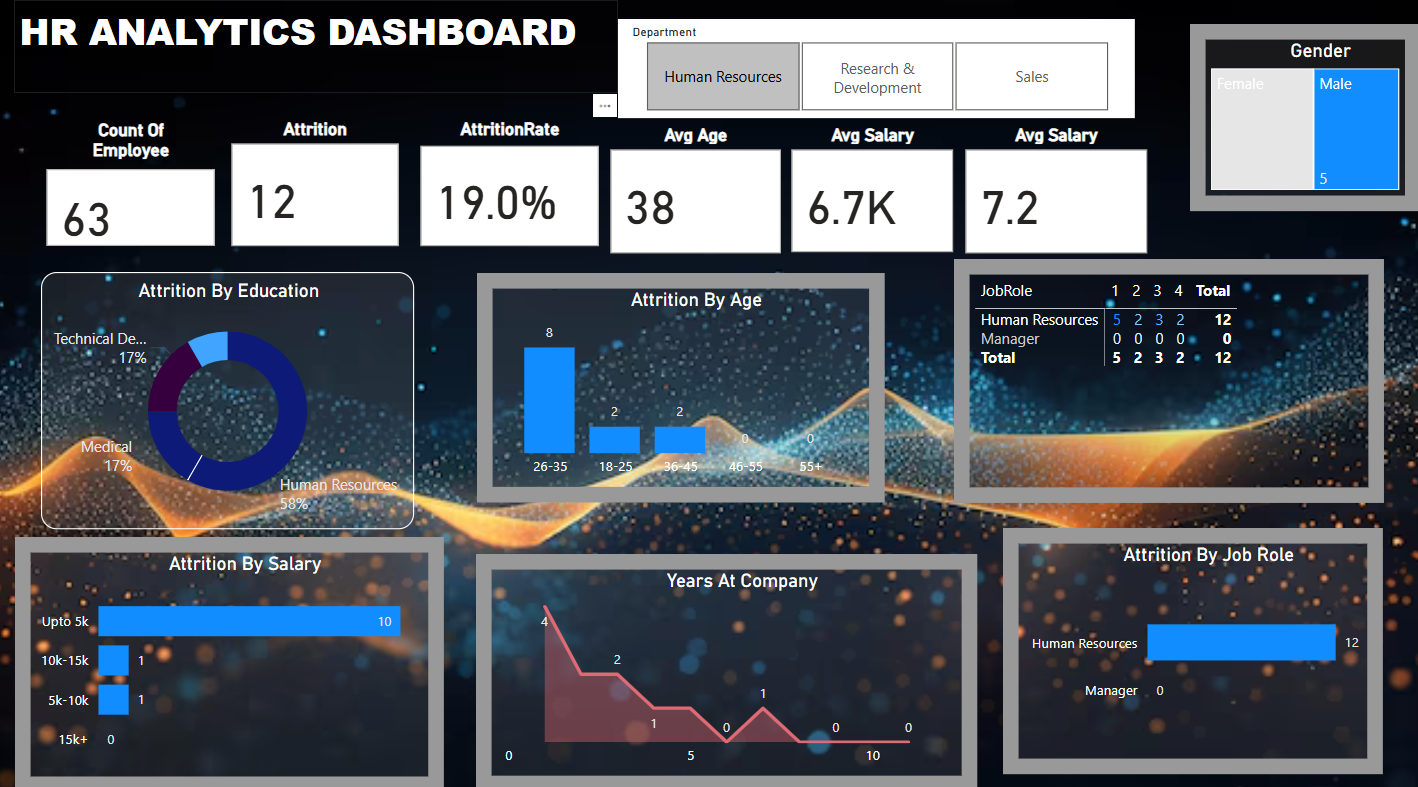

Layout of this report page (visuals, bound fields, positions):
{"tool":"powerbi","page":{"name":"Page 1","canvas":[1280,720],"ordinal":0},"visuals":[{"type":"cardVisual","title":"Count Of Employee","fields":{"Data":["CountNonNull(HR_Analytics.EmpID)"]},"box":[42.6,107.3,161.6,119],"z":0},{"type":"cardVisual","title":"Attrition","fields":{"Data":["Sum(HR_Analytics.AttritionCount)"]},"box":[208.7,105.8,160.2,120.5],"z":1000},{"type":"cardVisual","title":"AttritionRate","fields":{"Data":["HR_Analytics.AttritionRate"]},"box":[377.6,105.8,170.4,120.5],"z":2000},{"type":"cardVisual","title":"Avg Age","fields":{"Data":["Avg(HR_Analytics.Age)"]},"box":[548.1,111.7,163.1,122],"z":3000},{"type":"cardVisual","title":"Avg Salary","fields":{"Data":["Avg(HR_Analytics.MonthlyIncome)"]},"box":[711.2,111.7,155.8,120.5],"z":4000},{"type":"cardVisual","title":"Avg Salary","fields":{"Data":["Avg(HR_Analytics.YearsAtCompany)"]},"box":[866.9,111.7,173.4,122],"z":5000},{"type":"donutChart","title":"Attrition By Education","fields":{"Category":["HR_Analytics.EducationField"],"Y":["Sum(HR_Analytics.AttritionCount)"]},"box":[42.6,243.9,335,230.7],"z":6000},{"type":"columnChart","title":"Attrition By Age","fields":{"Category":["HR_Analytics.AgeGroup"],"Y":["Sum(HR_Analytics.AttritionCount)"]},"box":[433.5,245.4,365.9,205.7],"z":7000},{"type":"pivotTable","fields":{"Rows":["HR_Analytics.JobRole"],"Columns":["HR_Analytics.JobSatisfaction"],"Values":["Sum(HR_Analytics.AttritionCount)"]},"box":[861.4,232.9,385.7,218.6],"z":8000},{"type":"barChart","title":"Attrition By Salary","fields":{"Category":["HR_Analytics.SalarySlab"],"Y":["Sum(HR_Analytics.AttritionCount)"]},"box":[19.1,482,385,229.2],"z":8001},{"type":"barChart","title":"Attrition By Job Role","fields":{"Category":["HR_Analytics.JobRole"],"Y":["Sum(HR_Analytics.AttritionCount)"]},"box":[905.7,474.3,341.4,221.4],"z":8002},{"type":"areaChart","title":"Years At Company","fields":{"Category":["HR_Analytics.YearsAtCompany"],"Y":["Sum(HR_Analytics.AttritionCount)"]},"box":[432.9,497.1,450,212.9],"z":8003},{"type":"treemap","title":"Gender ","fields":{"Group":["HR_Analytics.Gender"],"Values":["Sum(HR_Analytics.AttritionCount)"]},"box":[1073.4,21.8,206.6,168],"z":8004},{"type":"slicer","fields":{"Values":["HR_Analytics.Department"]},"box":[560,17,464,89],"z":8005},{"type":"textbox","box":[17.6,0,542.2,83.8],"z":8006}]}

Visuals, with their boxes in screenshot pixels (x1, y1, x2, y2), scaled from the page's 1280x720 canvas onto the 1418x787 screenshot:
"Count Of Employee" cardVisual: (left=47, top=117, right=226, bottom=247)
"Attrition" cardVisual: (left=231, top=116, right=409, bottom=247)
"AttritionRate" cardVisual: (left=418, top=116, right=607, bottom=247)
"Avg Age" cardVisual: (left=607, top=122, right=788, bottom=255)
"Avg Salary" cardVisual: (left=788, top=122, right=960, bottom=254)
"Avg Salary" cardVisual: (left=960, top=122, right=1152, bottom=255)
"Attrition By Education" donutChart: (left=47, top=267, right=418, bottom=519)
"Attrition By Age" columnChart: (left=480, top=268, right=886, bottom=493)
pivotTable - HR_Analytics.JobRole x HR_Analytics.JobSatisfaction: (left=954, top=255, right=1382, bottom=494)
"Attrition By Salary" barChart: (left=21, top=527, right=448, bottom=777)
"Attrition By Job Role" barChart: (left=1003, top=518, right=1382, bottom=760)
"Years At Company" areaChart: (left=480, top=543, right=978, bottom=776)
"Gender " treemap: (left=1189, top=24, right=1417, bottom=207)
slicer - HR_Analytics.Department: (left=620, top=19, right=1134, bottom=116)
textbox: (left=19, top=0, right=620, bottom=92)
